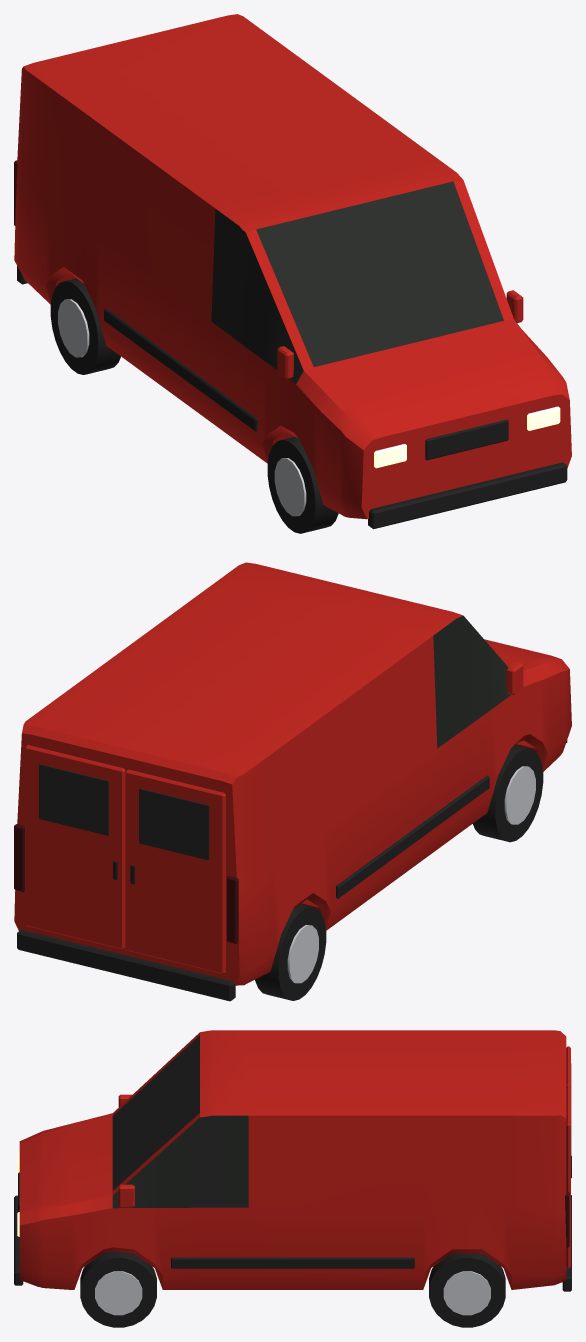
Rendered from camioneta_proveedor.glb.
3 renders of one model, top to bottom at view 1: azimuth 30°, elevation 25°; view 2: azimuth 150°, elevation 25°; view 3: azimuth 270°, elevation 25°, orthographic. The views are drawn at different scales.
Parts seen in each view (by area): view 1: pieza_carroceria, camioneta_proveedor_detalles, pieza_rueda_2, pieza_rueda_4, pieza_faros; view 2: pieza_carroceria, pieza_puerta_trasera_izq, pieza_puerta_trasera_der, camioneta_proveedor_detalles, pieza_rueda_4, pieza_rueda_2, pieza_luces_traseras; view 3: pieza_carroceria, camioneta_proveedor_detalles, pieza_rueda_1, pieza_rueda_3, pieza_puerta_trasera_der.
Part boxes in pixels (x1,y1,x2,y2): pieza_carroceria: (14,14,571,519); camioneta_proveedor_detalles: (17,181,567,529); pieza_rueda_2: (267,437,338,533); pieza_rueda_4: (50,278,120,374); pieza_faros: (374,406,560,468); pieza_carroceria: (14,562,571,985); pieza_puerta_trasera_izq: (125,769,225,974); pieza_puerta_trasera_der: (25,745,125,949); camioneta_proveedor_detalles: (17,615,567,1001); pieza_rueda_4: (255,904,326,1000); pieza_rueda_2: (473,745,543,842); pieza_luces_traseras: (14,824,238,943); pieza_carroceria: (19,1030,566,1289); camioneta_proveedor_detalles: (14,1035,571,1291); pieza_rueda_1: (80,1251,156,1327); pieza_rueda_3: (429,1253,505,1327); pieza_puerta_trasera_der: (566,1085,571,1268).
Bounding box in the file's own units: 1.9 × 2 × 4.8.
